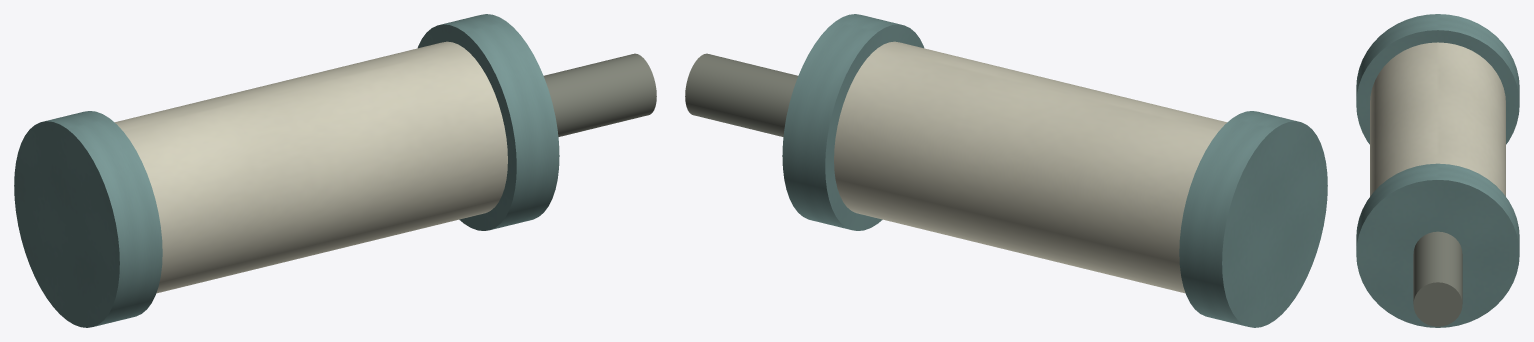
Rendered from Spare_Actuator.glb.
3 views of the same model, side by side, from view 1: azimuth 30°, elevation 25°; view 2: azimuth 150°, elevation 25°; view 3: azimuth 270°, elevation 25° (orthographic). The views are drawn at different scales.
Parts seen in each view (by area): view 1: Spare_Actuator; view 2: Spare_Actuator; view 3: Spare_Actuator.
Boxes of the visible parts, x1,y1,x2,y2 form: Spare_Actuator: (14,14,656,327); Spare_Actuator: (685,14,1327,327); Spare_Actuator: (1356,14,1519,327).
Bounding box in the file's own units: 1.88 × 0.6 × 0.6.
Materials: 3 (2 with a texture image).
